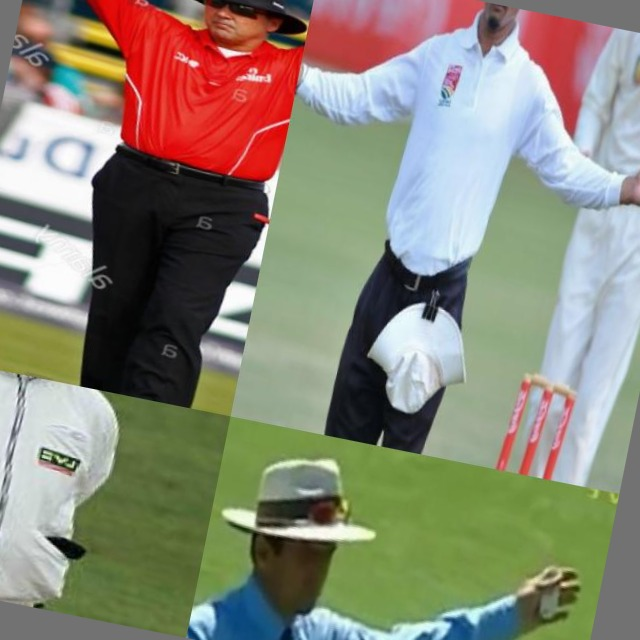No_Action: (0, 361, 159, 624)
Six: (0, 0, 320, 417)
Wide: (265, 0, 640, 322), (186, 417, 605, 640)
